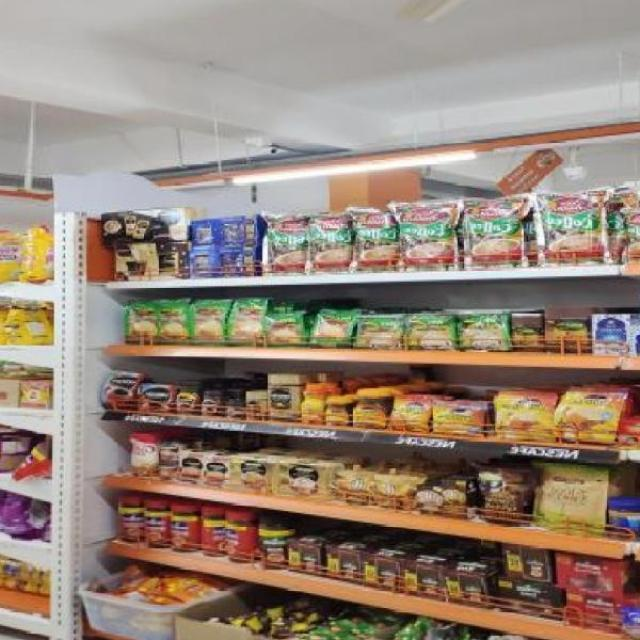Coffee: (555, 387, 621, 442), (497, 393, 554, 440), (390, 396, 430, 431), (271, 375, 300, 421), (101, 374, 137, 409), (354, 390, 387, 428), (142, 386, 176, 412), (301, 385, 321, 423), (326, 399, 350, 425), (247, 393, 266, 419), (201, 393, 221, 417), (228, 403, 245, 417)
